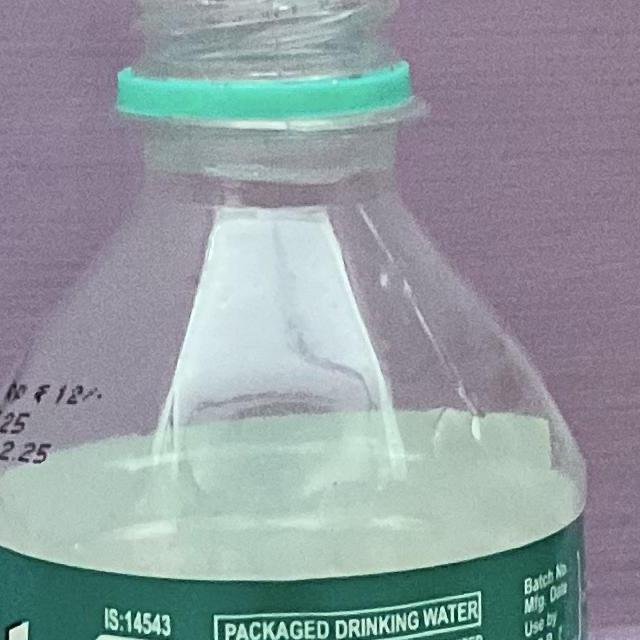open-cap: (131, 0, 411, 132)
